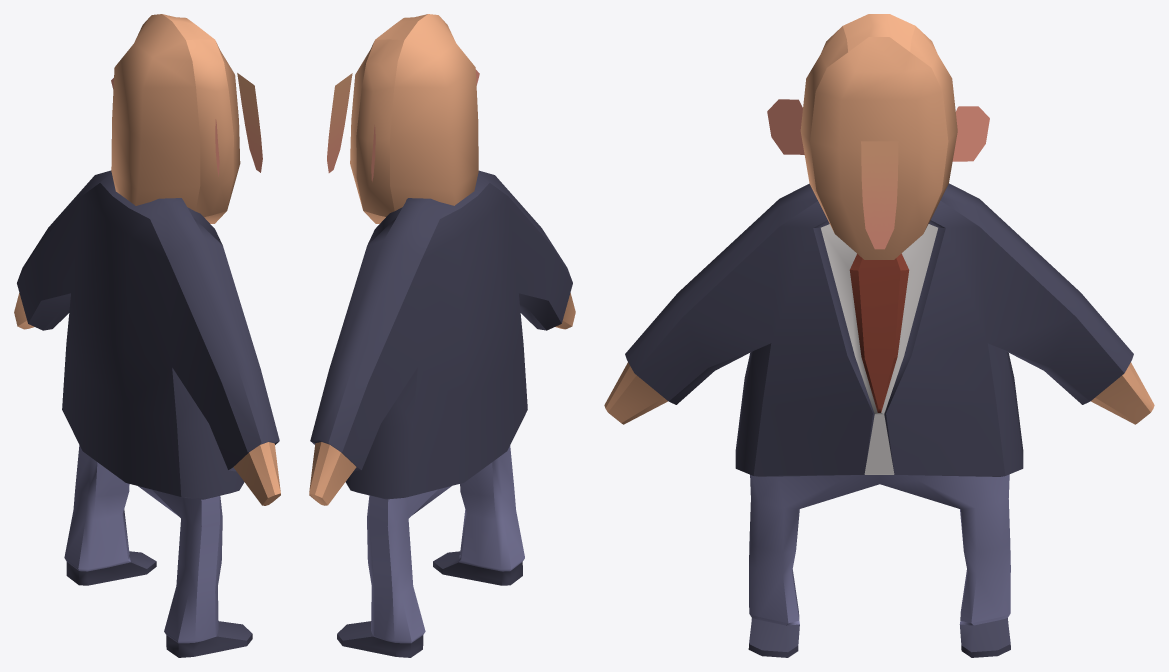
Rendered from noseCharacter_red.fbx.
3 views of the same model, side by side, from view 1: azimuth 30°, elevation 25°; view 2: azimuth 150°, elevation 25°; view 3: azimuth 270°, elevation 25° (orthographic). The views are drawn at different scales.
Parts seen in each view (by area): view 1: mesh_upperBody, mesh_head, mesh_lowerBody, mesh_nose; view 2: mesh_upperBody, mesh_head, mesh_lowerBody, mesh_nose; view 3: mesh_upperBody, mesh_head, mesh_lowerBody, mesh_nose, mesh_l_hear, mesh_r_hear.
Part boxes in pixels (box(x1,y1,x2,y2)): mesh_upperBody: box(14, 170, 280, 505); mesh_head: box(111, 14, 240, 223); mesh_lowerBody: box(64, 445, 252, 657); mesh_nose: box(237, 73, 262, 172); mesh_upperBody: box(309, 170, 575, 505); mesh_head: box(350, 14, 478, 223); mesh_lowerBody: box(337, 445, 524, 657); mesh_nose: box(327, 73, 352, 172); mesh_upperBody: box(604, 183, 1154, 476); mesh_head: box(800, 14, 957, 259); mesh_lowerBody: box(748, 474, 1010, 657); mesh_nose: box(861, 141, 898, 249); mesh_l_hear: box(767, 99, 804, 154); mesh_r_hear: box(952, 106, 989, 161).
Size of the model in its own units: 0.00403 by 0.0147 by 0.0117.
